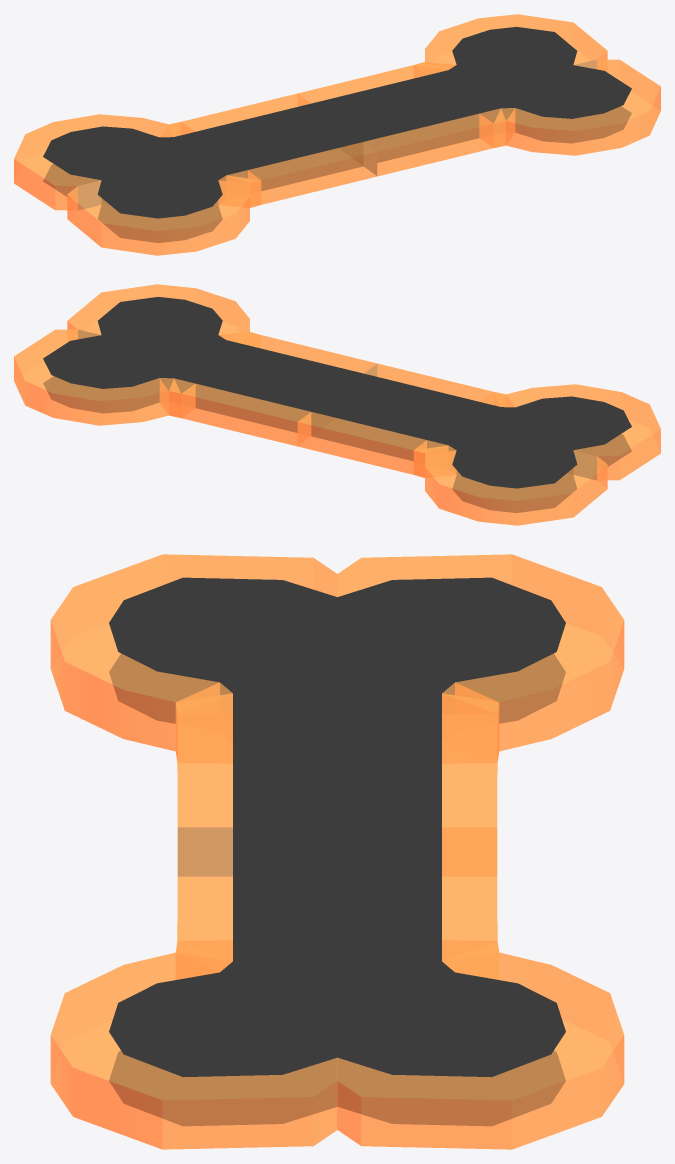
The model's file is speakerlight.fbx.
3 views of the same model, one above another, from view 1: azimuth 30°, elevation 25°; view 2: azimuth 150°, elevation 25°; view 3: azimuth 270°, elevation 25° (orthographic). The views are drawn at different scales.
Visible parts, largest first — view 1: pCube5; view 2: pCube5; view 3: pCube5.
Boxes of the visible parts, x1,y1,x2,y2 form: pCube5: (14, 14, 660, 255); pCube5: (14, 284, 660, 525); pCube5: (50, 554, 624, 1149).
Size of the model in its own units: 23.81 by 1 by 10.57.
